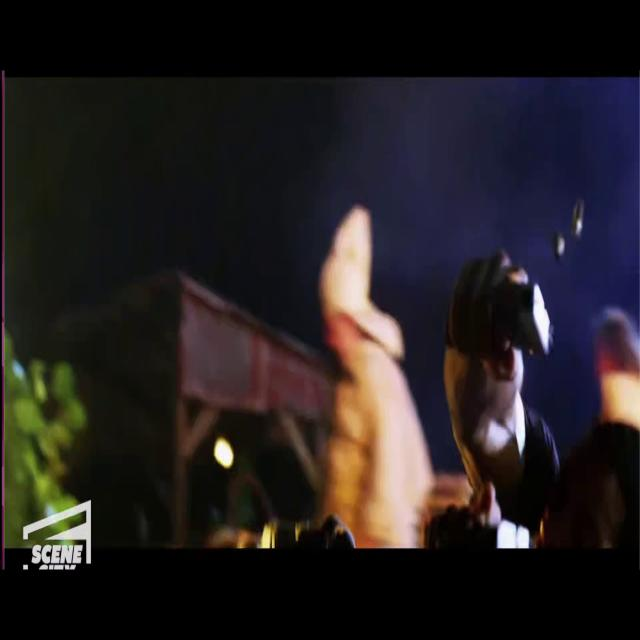weapons: (459, 238, 560, 383)
